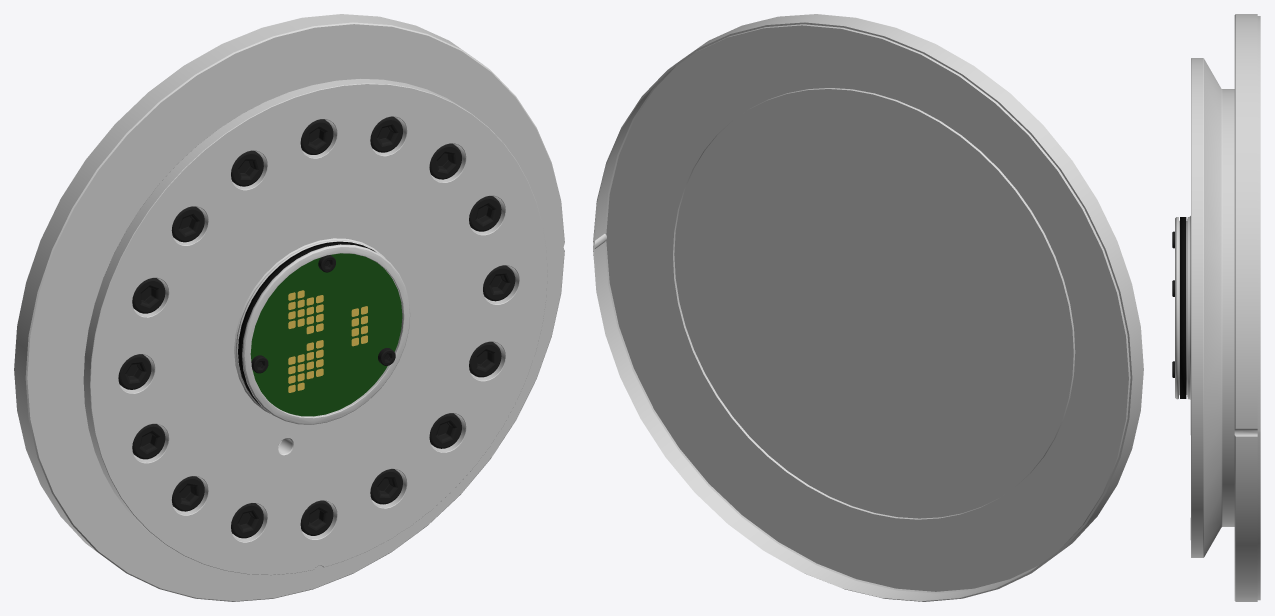
Rendered from BD148-KM-distal.glb.
3 renders of one model, left to right at view 1: azimuth 30°, elevation 25°; view 2: azimuth 150°, elevation 25°; view 3: azimuth 270°, elevation 25°, orthographic. The views are drawn at different scales.
Visible parts, largest first — view 1: BD148-distal.001; view 2: BD148-distal.001; view 3: BD148-distal.001.
Boxes of the visible parts, bbox=[...] form: BD148-distal.001: bbox=[14, 14, 564, 601]; BD148-distal.001: bbox=[593, 14, 1143, 601]; BD148-distal.001: bbox=[1172, 14, 1260, 601].
Size of the model in its own units: 0.148 by 0.1477 by 0.0222.
